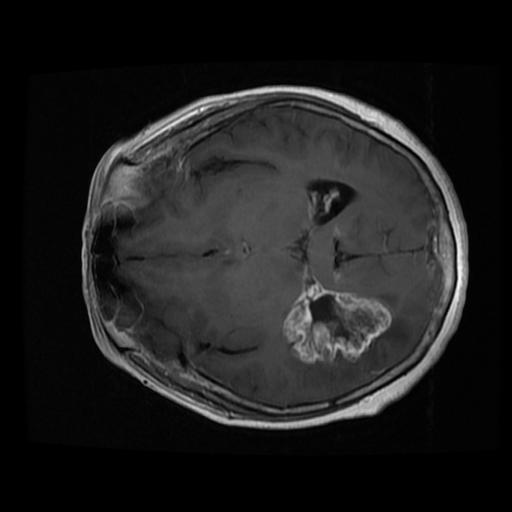glioma: (281, 282, 394, 366)
